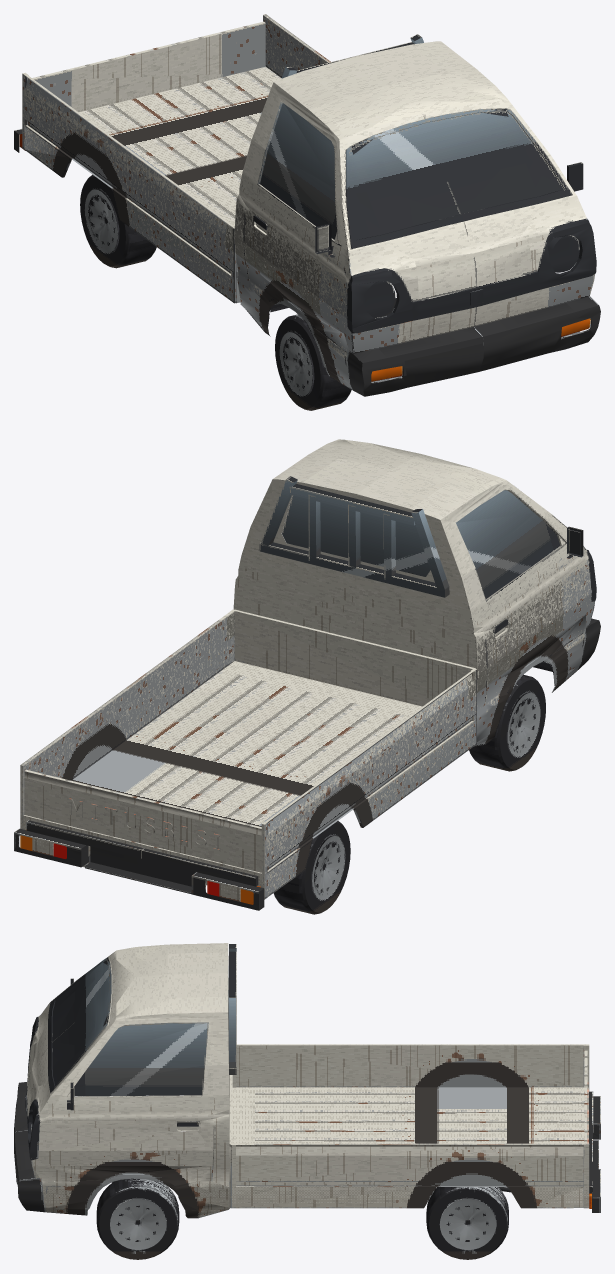
Rendered from kei_truck_a.glb.
3 views of the same model, one above another, from view 1: azimuth 30°, elevation 25°; view 2: azimuth 150°, elevation 25°; view 3: azimuth 270°, elevation 25° (orthographic). The views are drawn at different scales.
Parts seen in each view (by area): view 1: kei_truck_a; view 2: kei_truck_a; view 3: kei_truck_a.
Boxes of the visible parts, bbox=[...] form: kei_truck_a: bbox=[14, 14, 600, 410]; kei_truck_a: bbox=[14, 439, 600, 914]; kei_truck_a: bbox=[14, 943, 600, 1259].
Bounding box in the file's own units: 1.42 × 1.47 × 3.2.
1 material, 1 textured.
